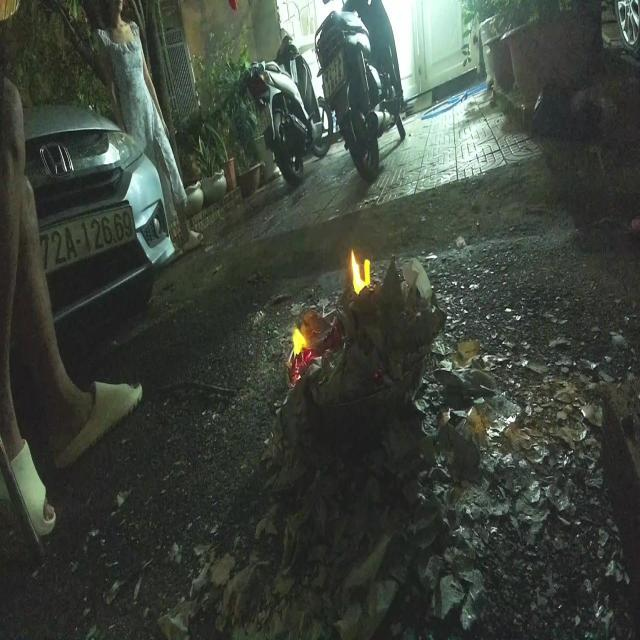Fire: (350, 246, 371, 296), (292, 326, 308, 369)
